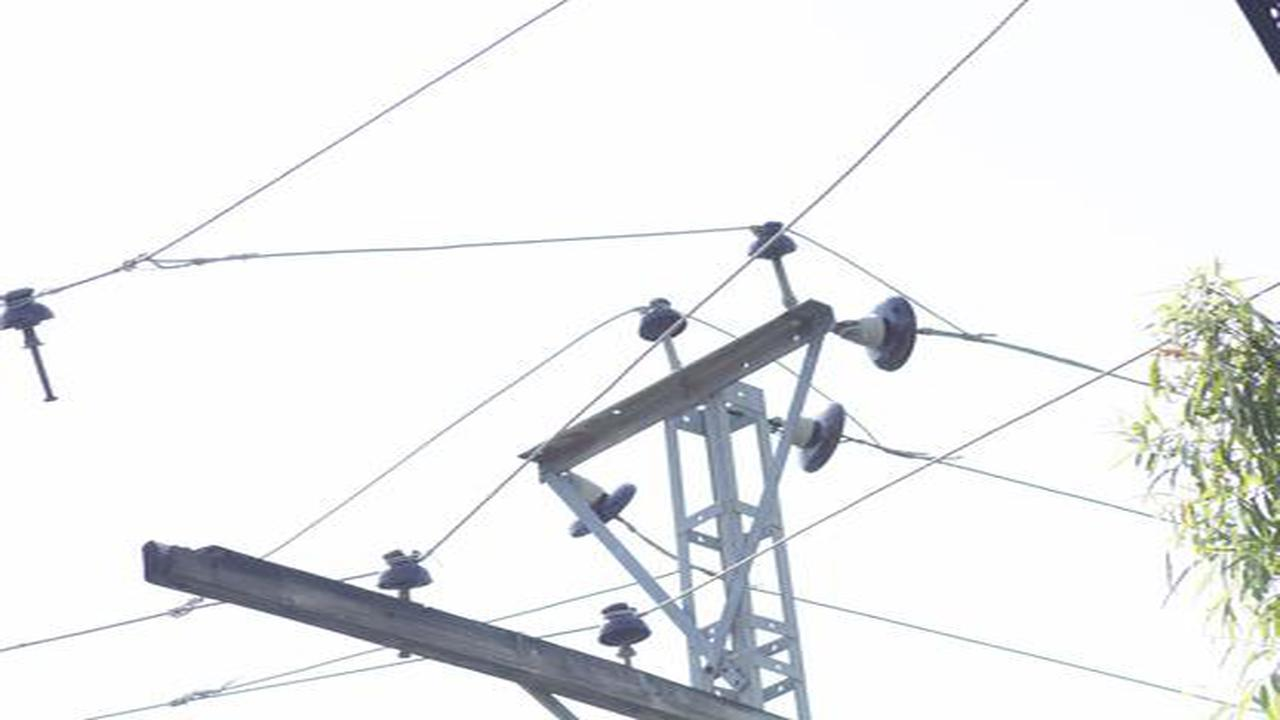insulator_disc: (839, 288, 924, 378), (767, 398, 852, 475), (555, 478, 650, 543)
insulator_pin: (370, 539, 446, 603), (591, 595, 658, 660), (1, 279, 69, 341), (632, 288, 693, 353), (737, 212, 806, 269)
